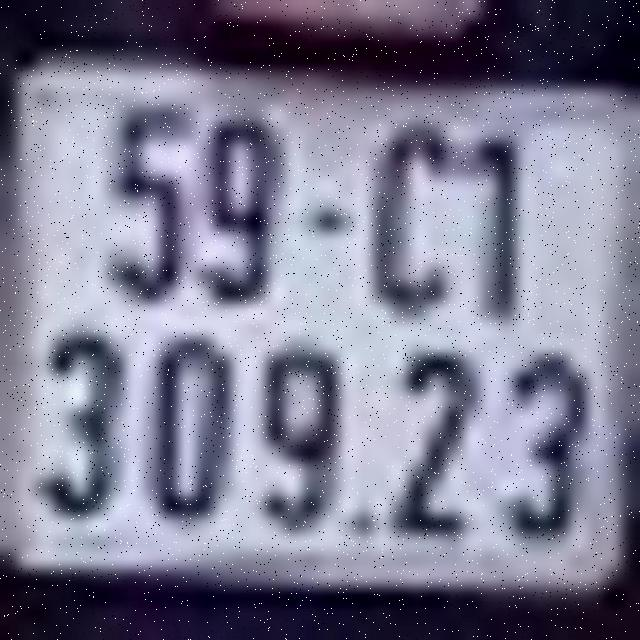0: (152, 332, 229, 521)
1: (469, 127, 526, 324)
2: (394, 347, 477, 536)
3: (39, 327, 125, 519), (508, 348, 586, 540)
5: (107, 100, 189, 302)
9: (262, 344, 338, 531), (206, 118, 276, 305)
C: (370, 120, 456, 317)
